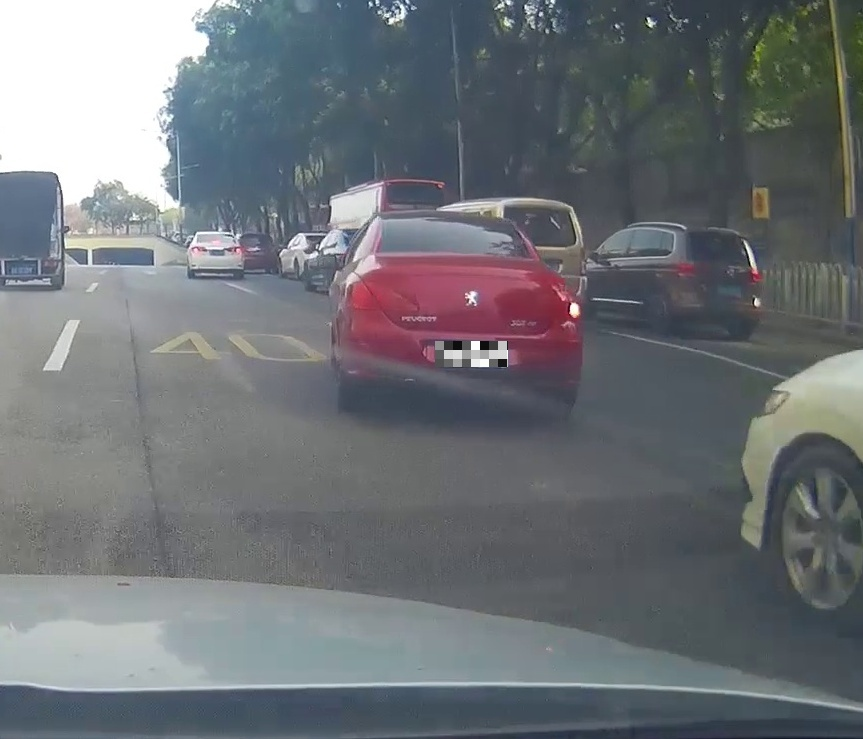L_light: (348, 281, 419, 311), (672, 262, 695, 277), (192, 247, 208, 253)
R_light: (547, 298, 581, 322), (746, 267, 761, 284), (225, 246, 242, 254)
T_light: (435, 216, 460, 220), (708, 229, 722, 232), (211, 240, 222, 243)
day-brake: (188, 232, 244, 278)
day-no: (671, 226, 763, 341)
day-right: (336, 209, 582, 421)
plate_1: (435, 341, 508, 367)
